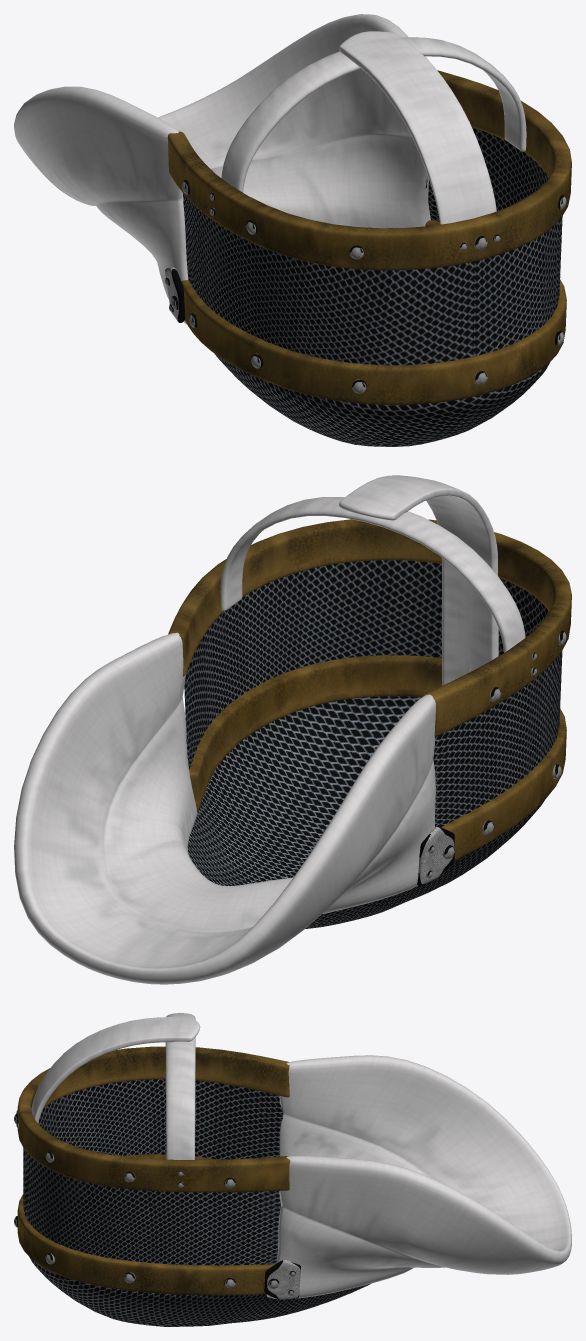
Rendered from fencer_helmet.glb.
3 views of the same model, one above another, from view 1: azimuth 30°, elevation 25°; view 2: azimuth 150°, elevation 25°; view 3: azimuth 270°, elevation 25° (orthographic). The views are drawn at different scales.
Parts seen in each view (by area): view 1: 11724_helmet_v1_L3; view 2: 11724_helmet_v1_L3; view 3: 11724_helmet_v1_L3.
Part boxes in pixels (x1=…): 11724_helmet_v1_L3: x1=14, y1=14, x2=571, y2=446; 11724_helmet_v1_L3: x1=14, y1=475, x2=571, y2=984; 11724_helmet_v1_L3: x1=14, y1=1013, x2=571, y2=1326.
Bounding box in the file's own units: 7.24 × 8.07 × 14.12.
3 materials, 3 textured.
